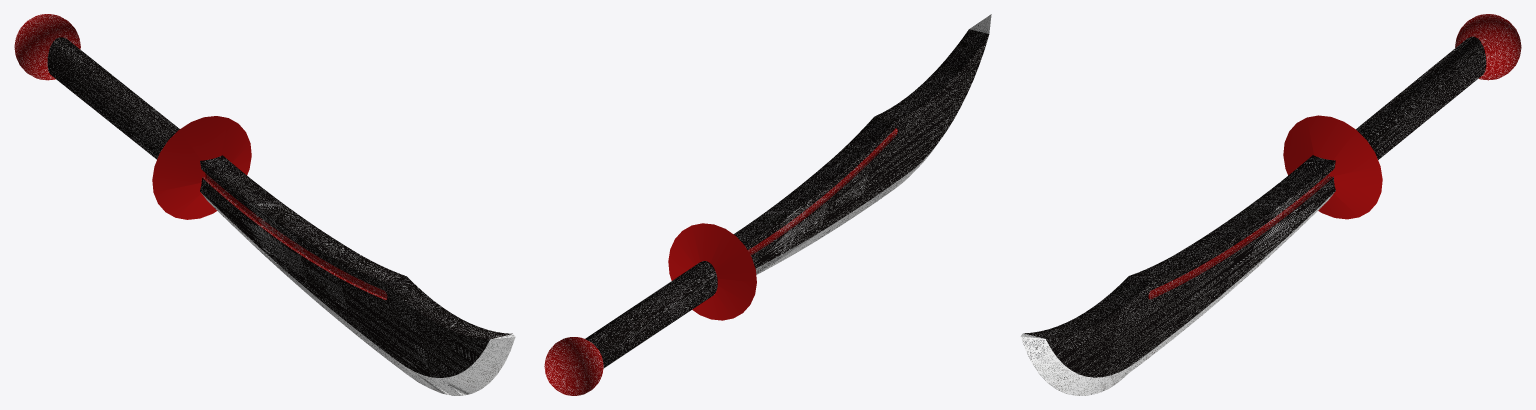
Rendered from model_scale.obj.
The picture shows the model from 3 angles, left to right: view 1: azimuth 30°, elevation 25°; view 2: azimuth 150°, elevation 25°; view 3: azimuth 330°, elevation 25°; orthographic projection. The views are drawn at different scales.
Parts seen in each view (by area): view 1: mesh2_mesh2-geometry, mesh1_mesh1-geometry, mesh3_mesh3-geometry, mesh4_mesh4-geometry; view 2: mesh2_mesh2-geometry, mesh1_mesh1-geometry, mesh3_mesh3-geometry, mesh4_mesh4-geometry; view 3: mesh2_mesh2-geometry, mesh1_mesh1-geometry, mesh3_mesh3-geometry, mesh4_mesh4-geometry.
Boxes of the visible parts, x1=… form: mesh2_mesh2-geometry: x1=200, y1=155, x2=515, y2=395; mesh1_mesh1-geometry: x1=152, y1=116, x2=251, y2=219; mesh3_mesh3-geometry: x1=47, y1=37, x2=179, y2=159; mesh4_mesh4-geometry: x1=14, y1=14, x2=80, y2=80; mesh2_mesh2-geometry: x1=733, y1=14, x2=991, y2=274; mesh1_mesh1-geometry: x1=668, y1=223, x2=756, y2=320; mesh3_mesh3-geometry: x1=585, y1=261, x2=717, y2=368; mesh4_mesh4-geometry: x1=544, y1=337, x2=603, y2=395; mesh2_mesh2-geometry: x1=1020, y1=155, x2=1335, y2=395; mesh1_mesh1-geometry: x1=1283, y1=115, x2=1382, y2=219; mesh3_mesh3-geometry: x1=1356, y1=36, x2=1486, y2=159; mesh4_mesh4-geometry: x1=1455, y1=14, x2=1521, y2=80.
Bounding box in the file's own units: 0.0239 × 0.0269 × 0.2018.
